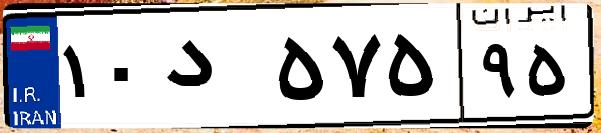0: (110, 28, 158, 98)
1: (57, 26, 110, 100)
5: (270, 28, 330, 110), (385, 28, 445, 110), (525, 38, 570, 115)
7: (330, 28, 385, 110)
9: (475, 38, 525, 113)
د: (158, 20, 270, 120)
